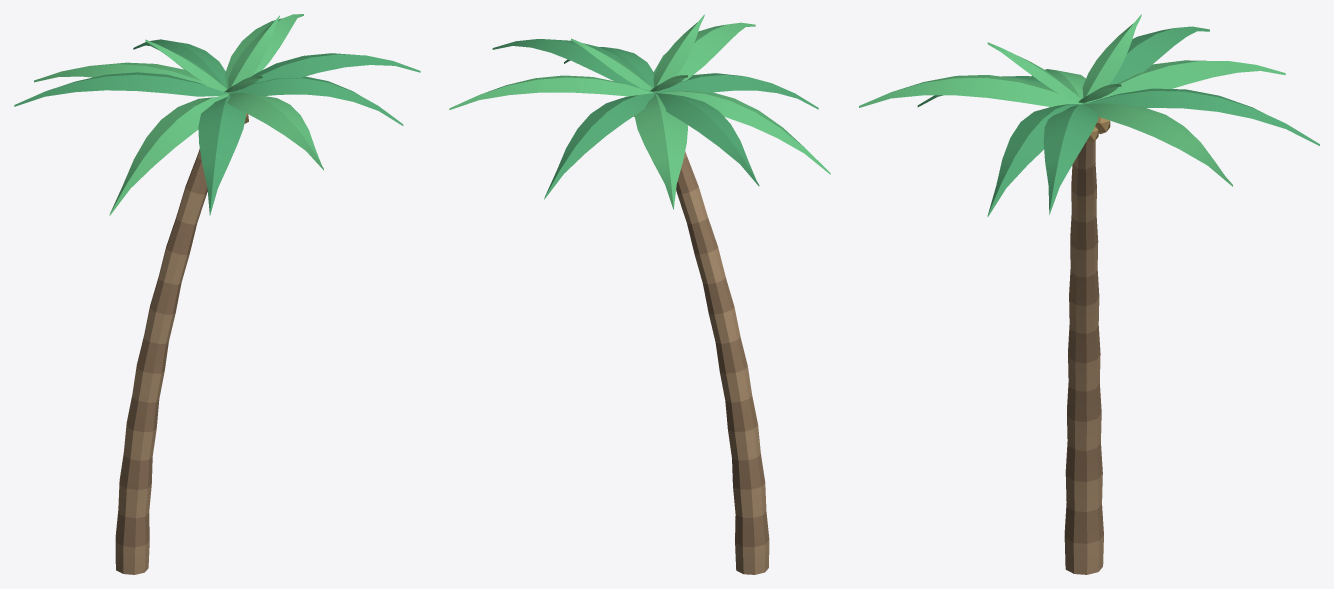
Rendered from palmeira_a.glb.
3 renders of one model, left to right at view 1: azimuth 30°, elevation 25°; view 2: azimuth 150°, elevation 25°; view 3: azimuth 270°, elevation 25°, orthographic. The views are drawn at different scales.
Visible parts, largest first — view 1: palmeira_a; view 2: palmeira_a; view 3: palmeira_a.
Part boxes in pixels (x1=…): palmeira_a: x1=14, y1=14, x2=420, y2=574; palmeira_a: x1=449, y1=14, x2=830, y2=574; palmeira_a: x1=859, y1=14, x2=1319, y2=574.
Size of the model in its own units: 5.53 by 7.87 by 5.72.
